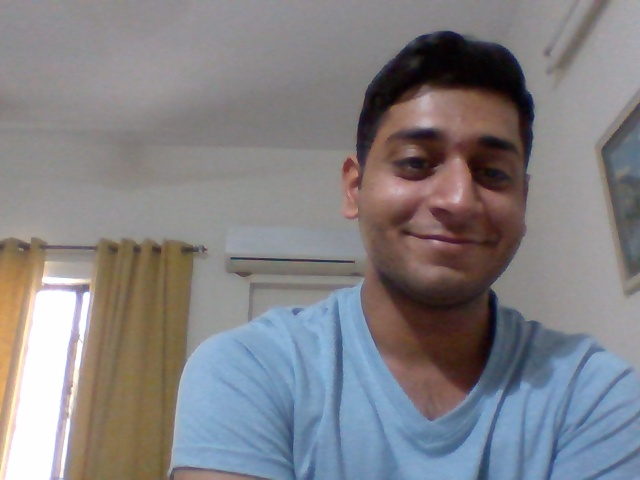happy: (328, 81, 555, 316)
